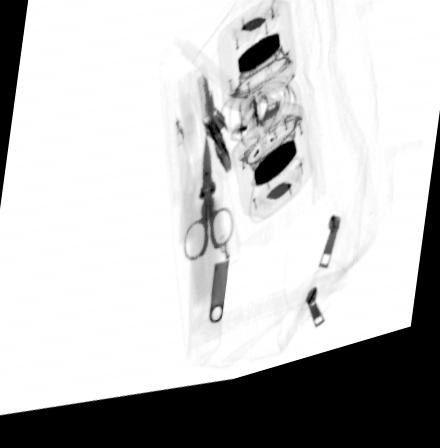Scissors: (181, 149, 235, 273)
